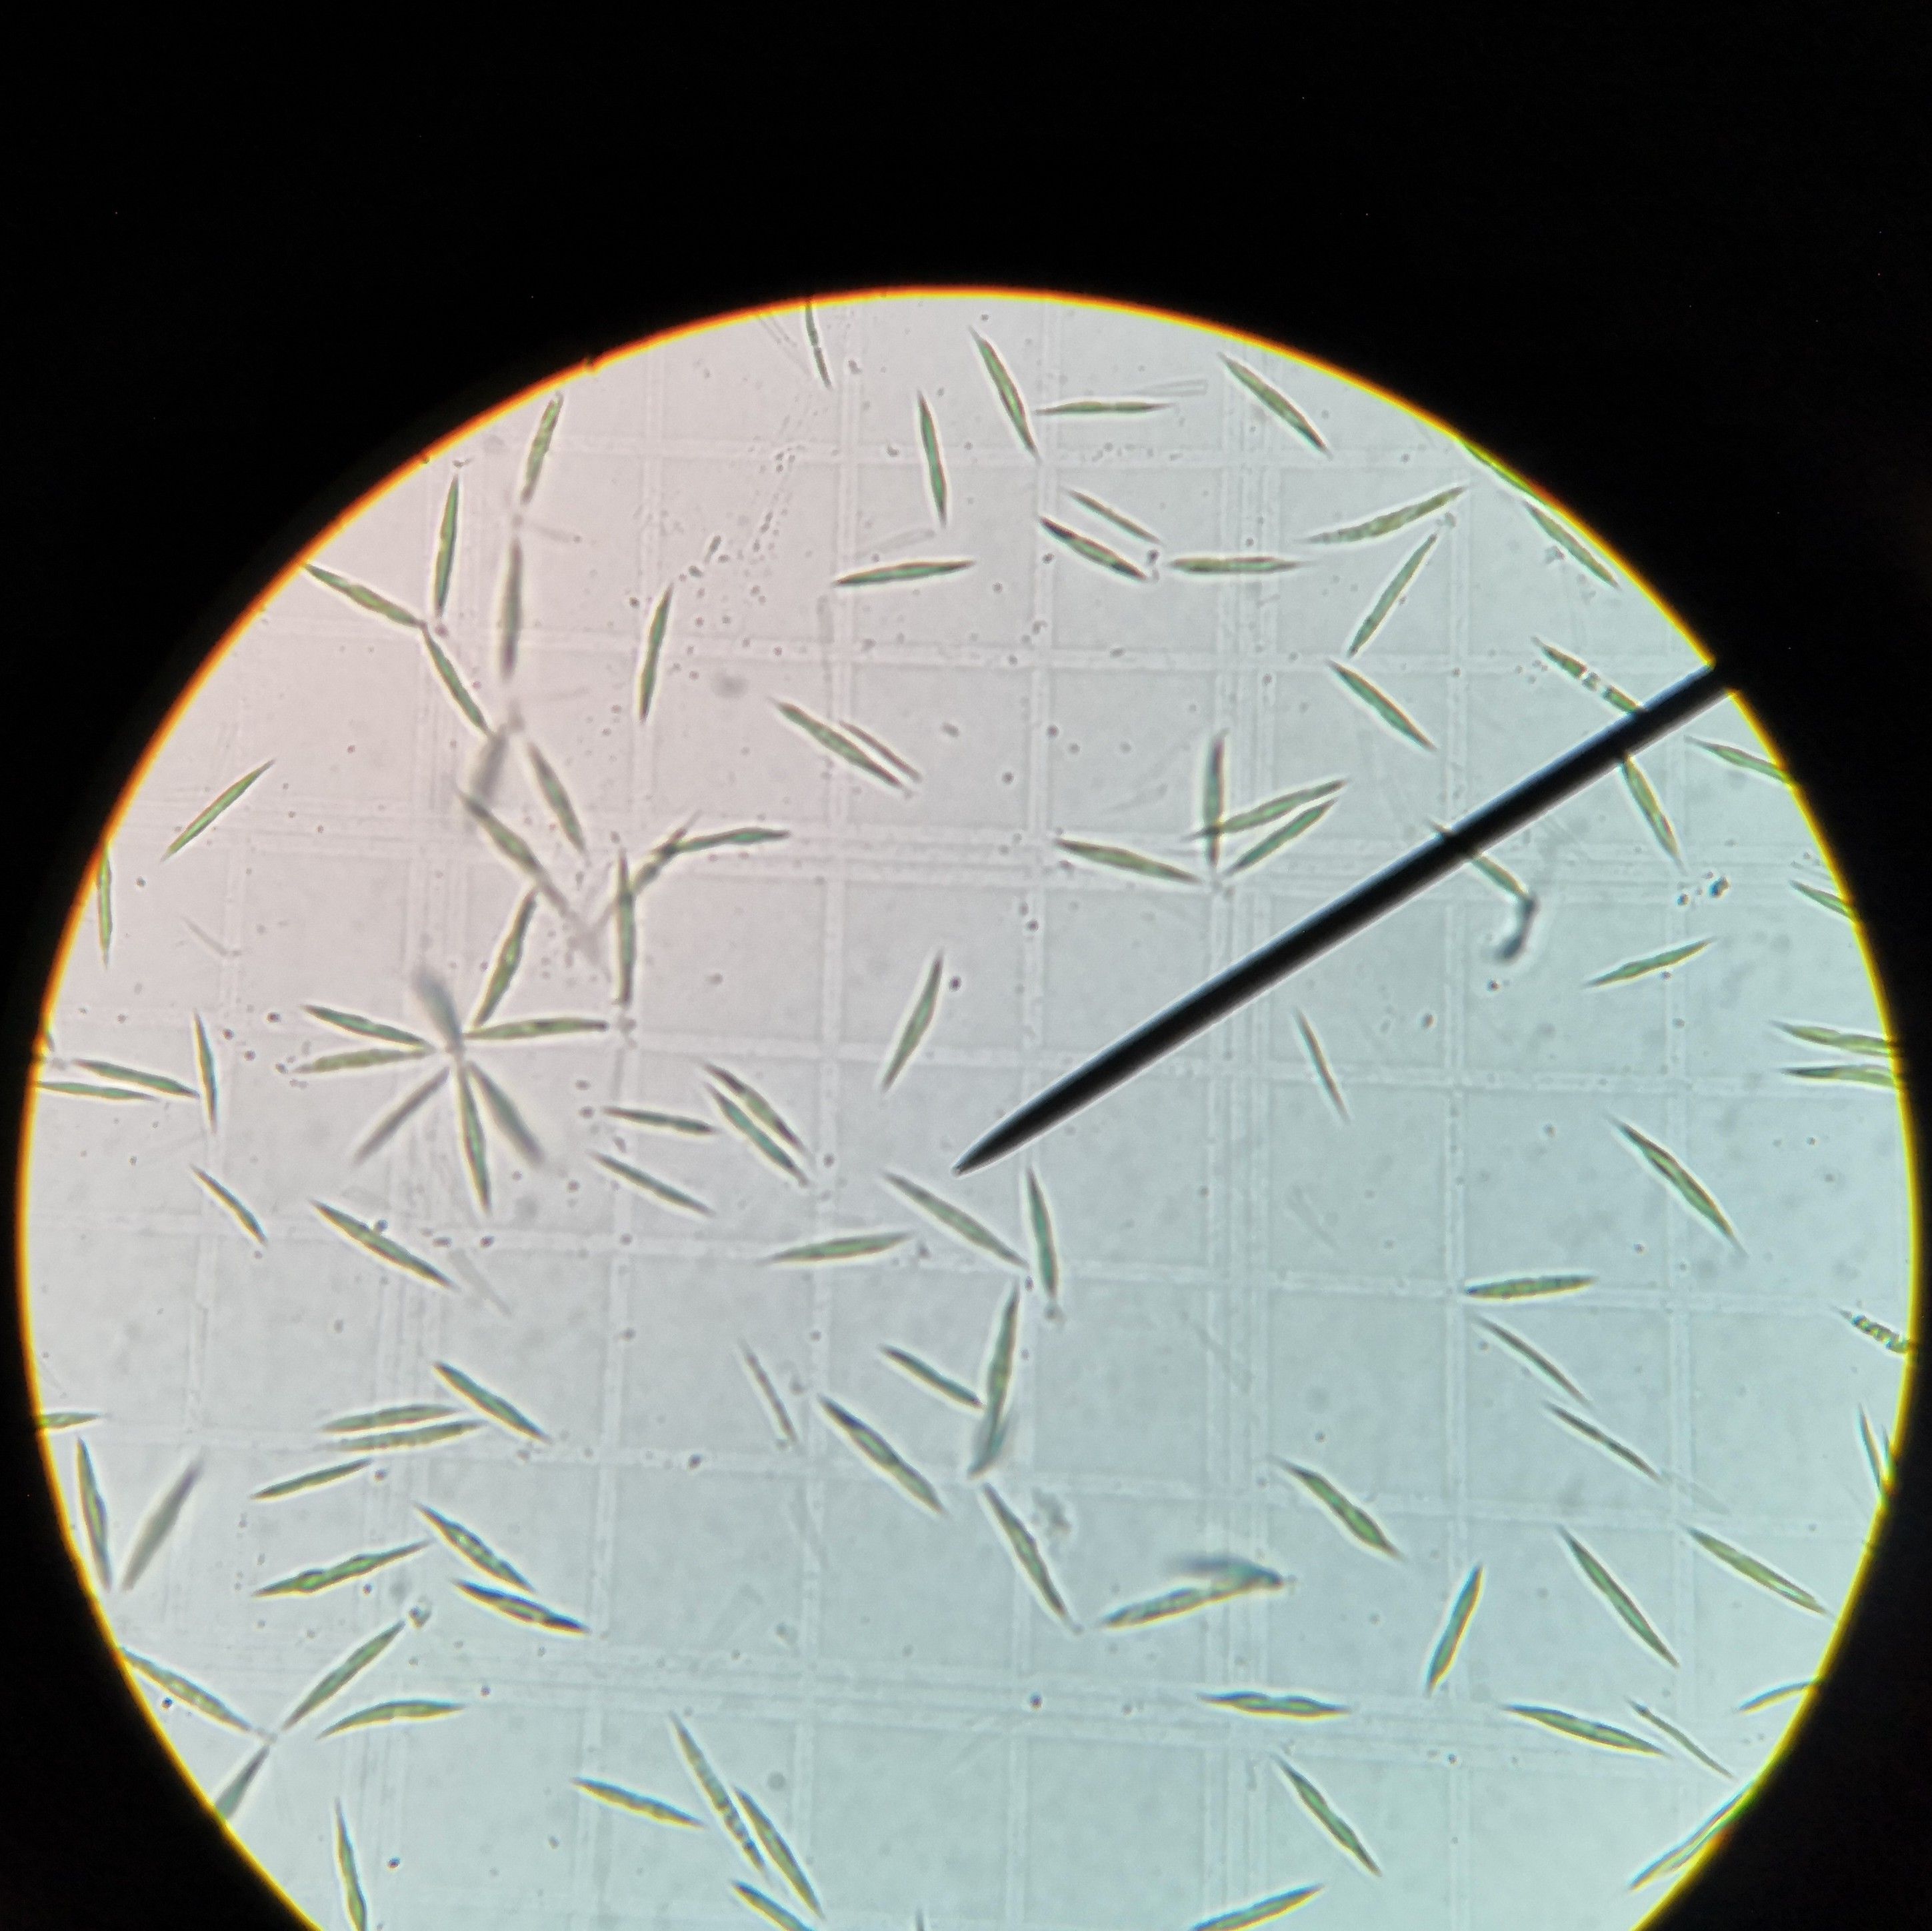Microalgae: (1260, 1457, 1415, 1565), (1617, 1123, 1737, 1252), (1550, 1542, 1679, 1662), (814, 1397, 947, 1514), (1215, 361, 1346, 465), (308, 1208, 464, 1294), (985, 1487, 1076, 1632), (124, 1639, 262, 1733), (1269, 1758, 1369, 1885), (883, 1171, 1017, 1266), (1626, 1786, 1757, 1880), (770, 702, 901, 796), (163, 752, 276, 854), (124, 1452, 211, 1584), (1488, 1705, 1668, 1767), (678, 1724, 754, 1869), (276, 1627, 396, 1717), (962, 327, 1042, 460), (1691, 1531, 1821, 1609), (1097, 1570, 1274, 1625), (740, 1790, 823, 1904), (285, 564, 426, 630), (356, 1063, 446, 1164), (1300, 486, 1460, 543), (1221, 771, 1352, 838), (1525, 502, 1619, 596), (1537, 1413, 1663, 1482), (180, 1169, 274, 1259), (701, 1063, 801, 1146), (418, 1514, 538, 1583), (1058, 829, 1200, 888), (419, 633, 501, 734), (1355, 536, 1430, 645), (260, 1542, 428, 1590), (418, 1360, 540, 1425), (1481, 1321, 1580, 1401), (978, 1289, 1024, 1457), (1191, 714, 1247, 851), (824, 550, 978, 599), (460, 787, 540, 882), (1191, 1682, 1369, 1724), (327, 1687, 474, 1738), (1421, 829, 1529, 898), (318, 1422, 499, 1462), (527, 734, 587, 854), (476, 898, 534, 1022), (177, 1010, 234, 1135), (633, 824, 805, 865), (1430, 1560, 1488, 1678), (67, 1448, 113, 1599), (1334, 668, 1424, 744), (455, 1586, 587, 1637), (764, 1233, 918, 1277), (1545, 644, 1640, 714), (1621, 759, 1686, 861), (881, 965, 938, 1084), (869, 1340, 978, 1401), (1237, 808, 1334, 875), (598, 1153, 695, 1220), (290, 1001, 435, 1045), (1591, 934, 1702, 990), (587, 1100, 722, 1146), (1767, 1057, 1905, 1102), (419, 469, 460, 617), (1021, 389, 1182, 426), (471, 1011, 617, 1052), (711, 1096, 782, 1178), (1683, 729, 1787, 783), (745, 1333, 796, 1441), (915, 380, 952, 527), (1299, 1017, 1350, 1121), (464, 1063, 497, 1220), (1644, 1712, 1734, 1770), (205, 1745, 267, 1830), (607, 861, 640, 1015), (573, 1786, 697, 1827), (333, 1807, 373, 1931), (1203, 1885, 1325, 1926), (633, 582, 669, 720), (1042, 523, 1143, 571), (255, 1462, 364, 1503), (1463, 1282, 1596, 1316), (717, 1881, 801, 1931), (522, 403, 566, 493), (1790, 865, 1859, 921), (1849, 1395, 1882, 1507), (1024, 1164, 1053, 1293), (34, 1395, 108, 1443), (1824, 1303, 1911, 1344), (1741, 1676, 1831, 1712), (1171, 564, 1311, 582), (103, 836, 120, 960), (30, 1086, 163, 1102)
